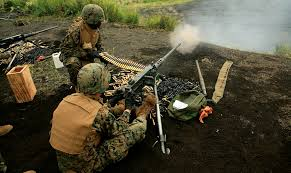gun: (114, 42, 182, 108), (0, 23, 59, 50)
